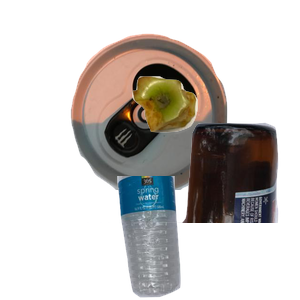glass: (87, 120, 300, 300)
metal: (68, 31, 288, 211)
plastic: (115, 176, 288, 300)
trash: (130, 74, 300, 199)
